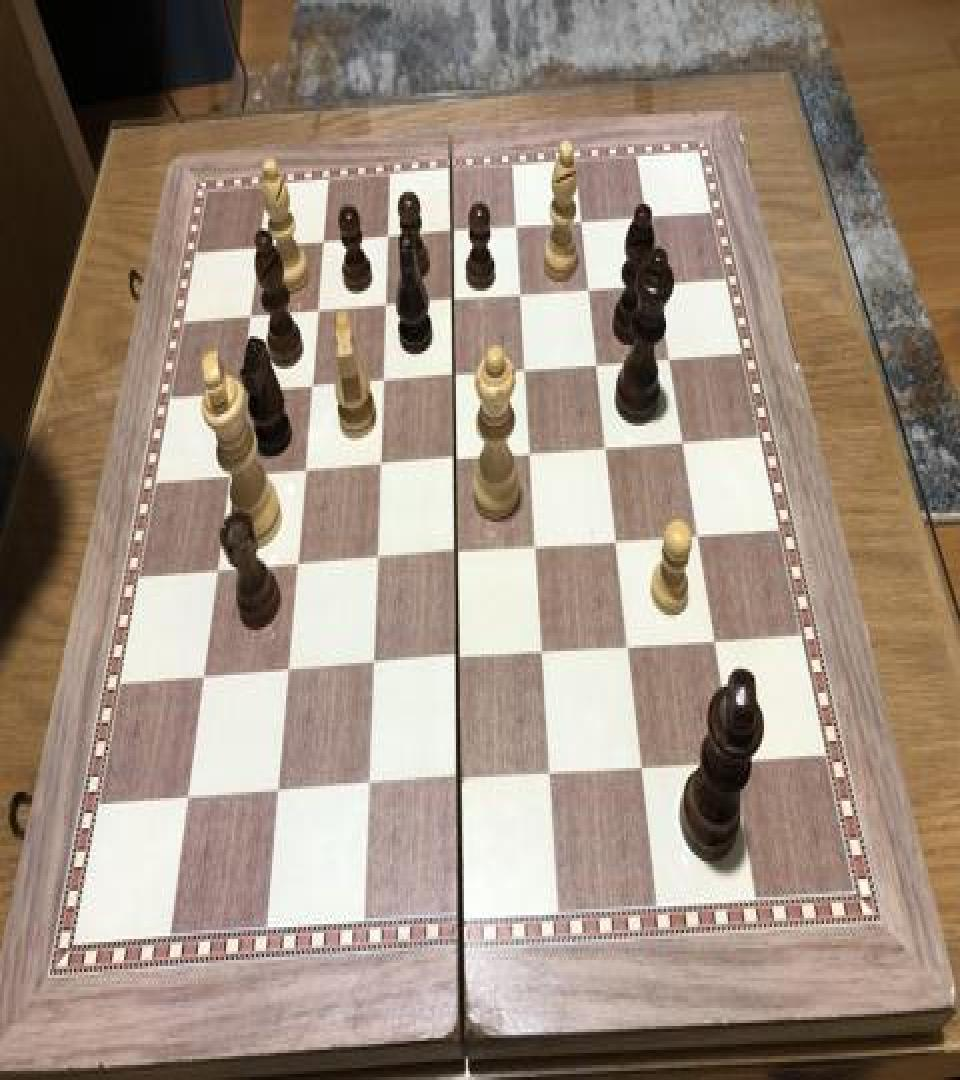xcorner: (702, 622, 726, 659), (635, 198, 659, 234), (570, 202, 594, 238), (505, 208, 529, 244), (440, 213, 464, 249), (375, 219, 399, 255), (311, 224, 335, 260), (246, 230, 270, 266), (646, 266, 670, 302), (577, 270, 601, 306), (509, 276, 533, 312), (441, 282, 465, 318), (373, 286, 397, 322), (305, 292, 329, 328), (237, 298, 261, 334), (658, 340, 682, 376), (585, 346, 609, 382), (513, 351, 537, 387), (441, 357, 465, 393), (370, 363, 394, 399), (298, 369, 322, 405), (227, 374, 251, 410), (671, 424, 695, 460), (594, 429, 618, 465), (518, 435, 542, 471), (442, 441, 466, 477), (367, 447, 391, 483), (291, 453, 315, 489), (216, 459, 240, 495), (685, 518, 709, 554), (604, 524, 628, 560), (524, 530, 548, 566), (443, 536, 467, 572), (363, 542, 387, 578), (283, 548, 307, 584), (203, 554, 227, 590), (616, 630, 640, 666), (530, 636, 554, 672), (444, 642, 468, 678), (359, 648, 383, 684), (274, 654, 298, 690), (189, 660, 213, 696), (721, 744, 745, 780), (628, 750, 652, 786), (537, 756, 561, 792), (445, 762, 469, 798), (354, 768, 378, 804), (264, 776, 288, 812), (173, 782, 197, 818)
